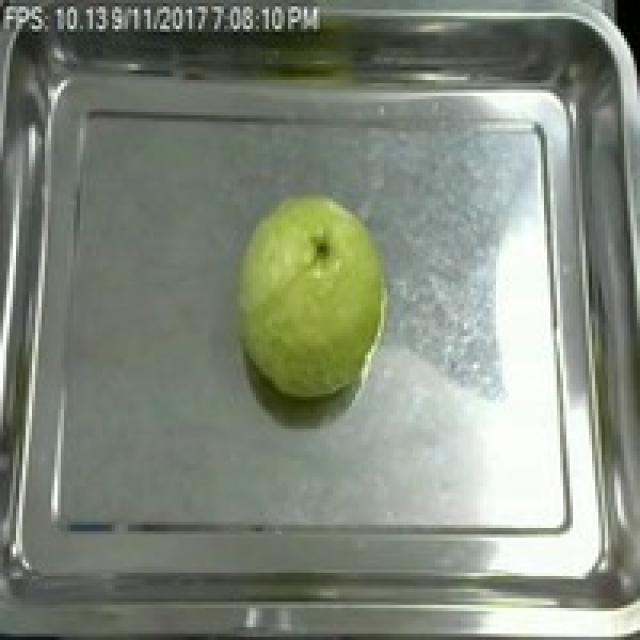Fruit: (224, 180, 397, 406)
